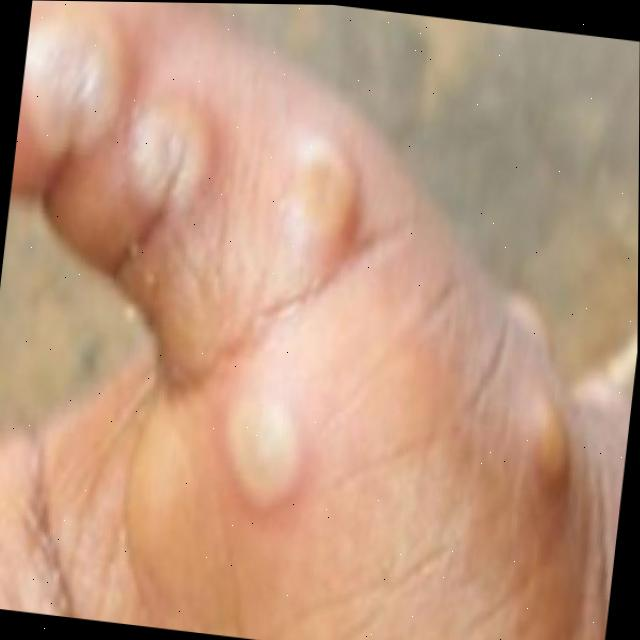Eczema: (48, 10, 363, 238), (223, 401, 315, 517), (506, 422, 571, 463)
